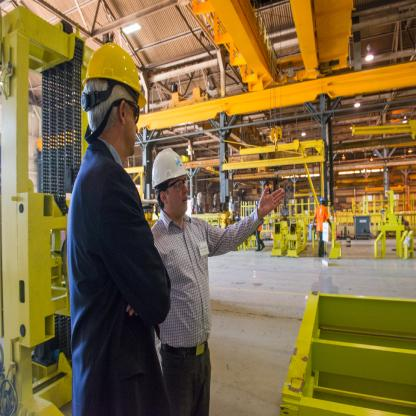Helmet: (79, 40, 139, 149), (151, 146, 190, 193)
